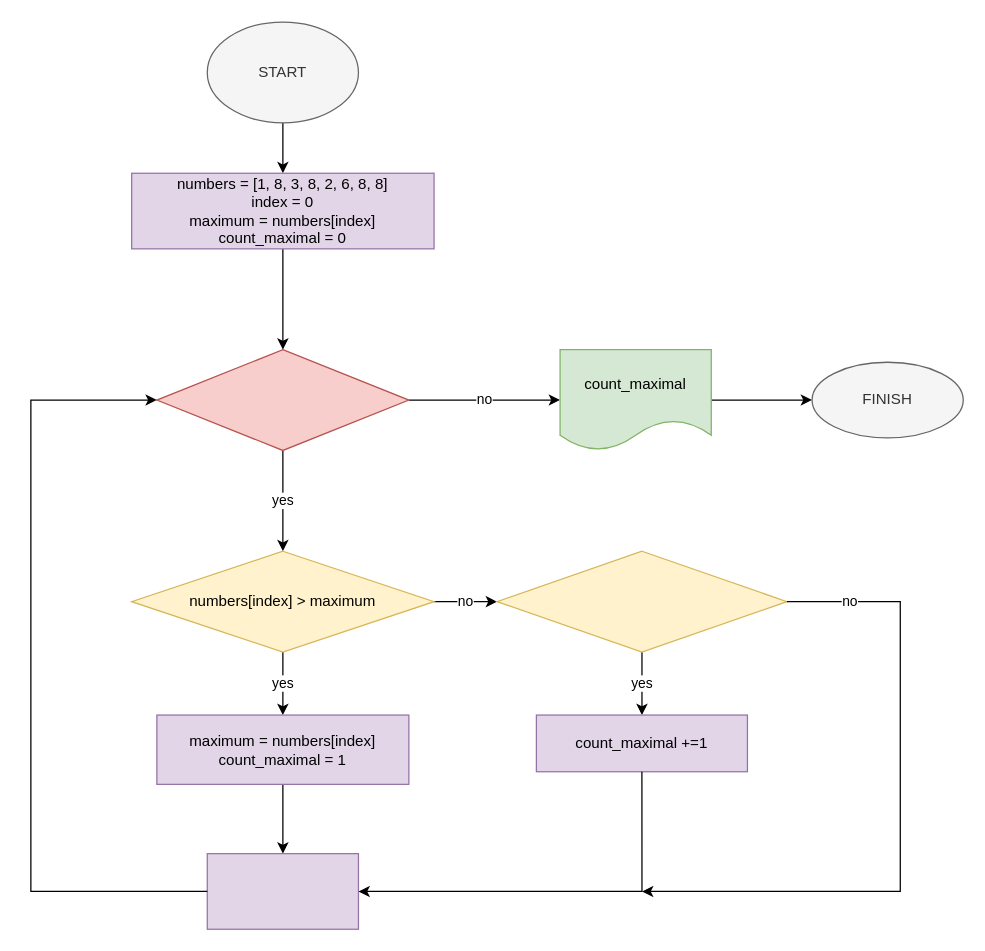
This 985x951 diagram has some shape labels left out. Each missing label, with the box of its shape:
index +=1: (206, 852, 358, 929)
index < numbers.lenght: (156, 348, 409, 450)
numbers[index] == maximum: (496, 550, 787, 652)
